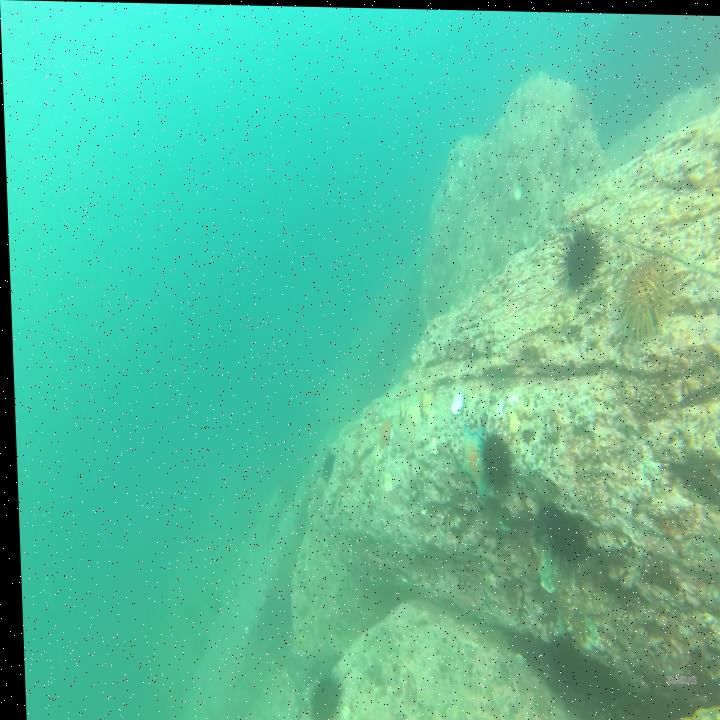echinus: (614, 245, 674, 332), (552, 208, 606, 293), (536, 497, 583, 569), (472, 425, 511, 491), (299, 670, 336, 720), (316, 445, 333, 482)
starfish: (454, 419, 494, 501)
